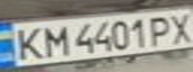0: (109, 17, 133, 51)
1: (127, 16, 151, 47)
4: (69, 19, 97, 54), (90, 19, 115, 53)
K: (6, 24, 48, 61)
M: (36, 23, 72, 57)
P: (145, 12, 178, 46)
X: (163, 10, 193, 44)
